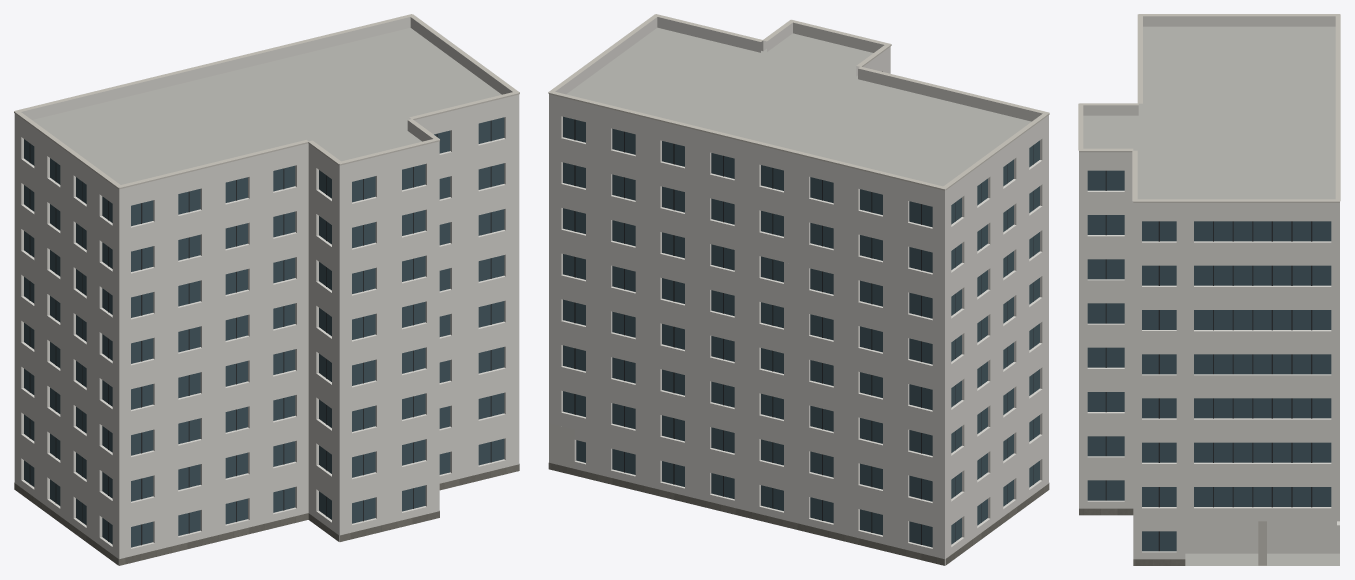
3 renders of one model, left to right at view 1: azimuth 30°, elevation 25°; view 2: azimuth 150°, elevation 25°; view 3: azimuth 270°, elevation 25°, orthographic. The views are drawn at different scales.
Visible parts, largest first — view 1: humanitiesEast__wall, humanitiesEast__glass, humanitiesEast__roof, humanitiesEast__parapet, humanitiesEast__trim, humanitiesEast__base, humanitiesEast__frame; view 2: humanitiesEast__wall, humanitiesEast__glass, humanitiesEast__roof, humanitiesEast__parapet, humanitiesEast__trim, humanitiesEast__base, humanitiesEast__frame; view 3: humanitiesEast__wall, humanitiesEast__roof, humanitiesEast__glass, humanitiesEast__parapet, humanitiesEast__trim, humanitiesEast__frame, humanitiesEast__base, humanitiesEast__column.
Part boxes in pixels (x1,y1,x2,y2): humanitiesEast__wall: (14,103,519,565); humanitiesEast__glass: (24,117,504,547); humanitiesEast__roof: (32,27,501,542); humanitiesEast__parapet: (14,17,519,198); humanitiesEast__trim: (14,14,519,188); humanitiesEast__base: (14,464,519,565); humanitiesEast__frame: (29,120,491,545); humanitiesEast__wall: (549,55,1048,565); humanitiesEast__glass: (563,116,1039,547); humanitiesEast__roof: (566,27,1031,565); humanitiesEast__parapet: (549,17,1048,199); humanitiesEast__trim: (548,14,1049,190); humanitiesEast__base: (548,462,1049,565); humanitiesEast__frame: (574,119,1033,544); humanitiesEast__wall: (1079,161,1339,559); humanitiesEast__roof: (1083,26,1339,565); humanitiesEast__glass: (1087,170,1331,551); humanitiesEast__parapet: (1079,16,1339,211); humanitiesEast__trim: (1078,14,1340,202); humanitiesEast__frame: (1105,170,1312,551); humanitiesEast__base: (1079,508,1185,565); humanitiesEast__column: (1258,521,1266,565).
Size of the model in its own units: 30.92 by 28.02 by 18.28.
9 materials, 1 textured.
